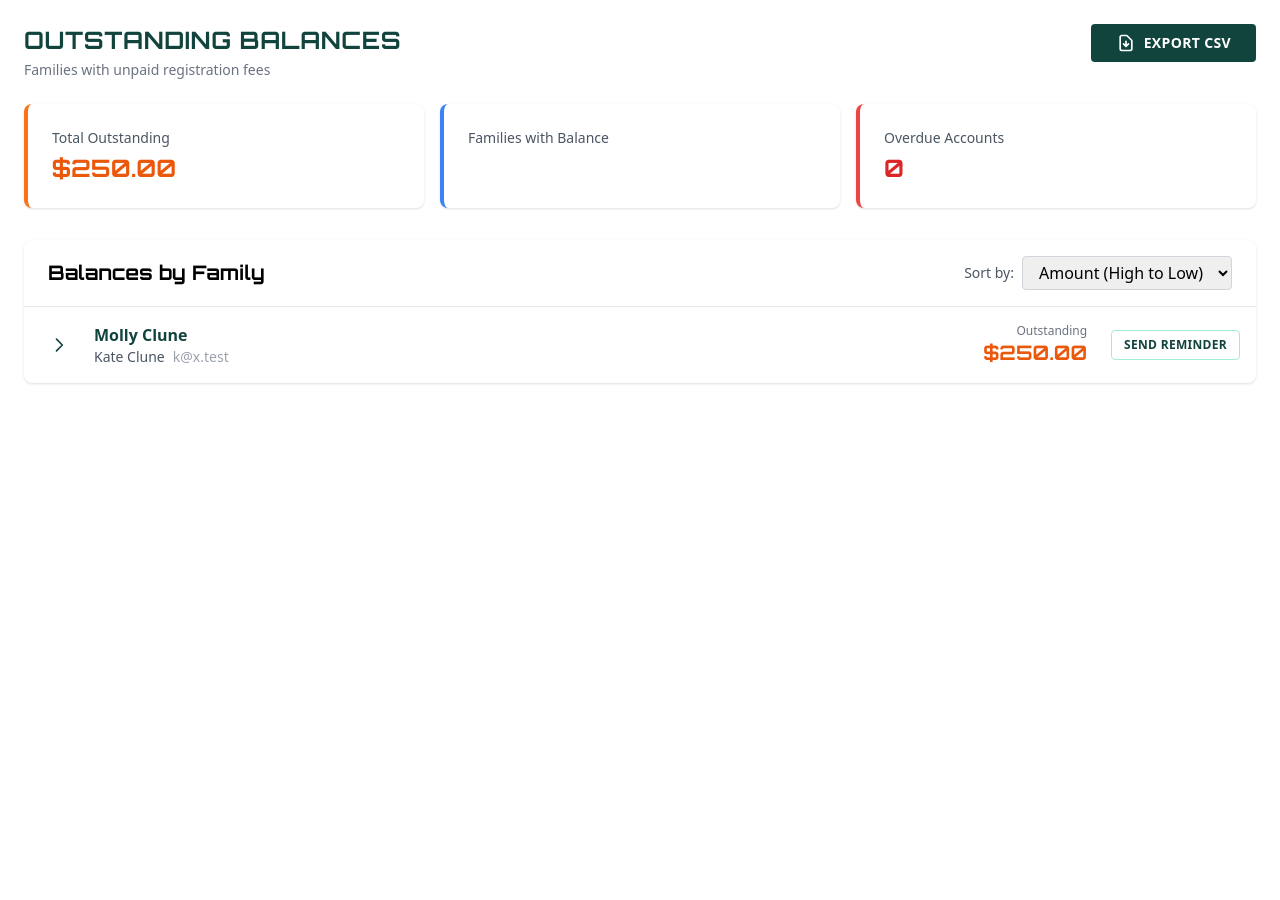
Test: a financial admin sees the chip, an Edit control on the invoiced payment, and No invoice on the other
The image size is (1280, 900).
Expected: the link "Molly Clune" is shown, [94, 323, 188, 347]
Click the button named "Expand". click: [59, 345]
box: [40, 326, 78, 364]
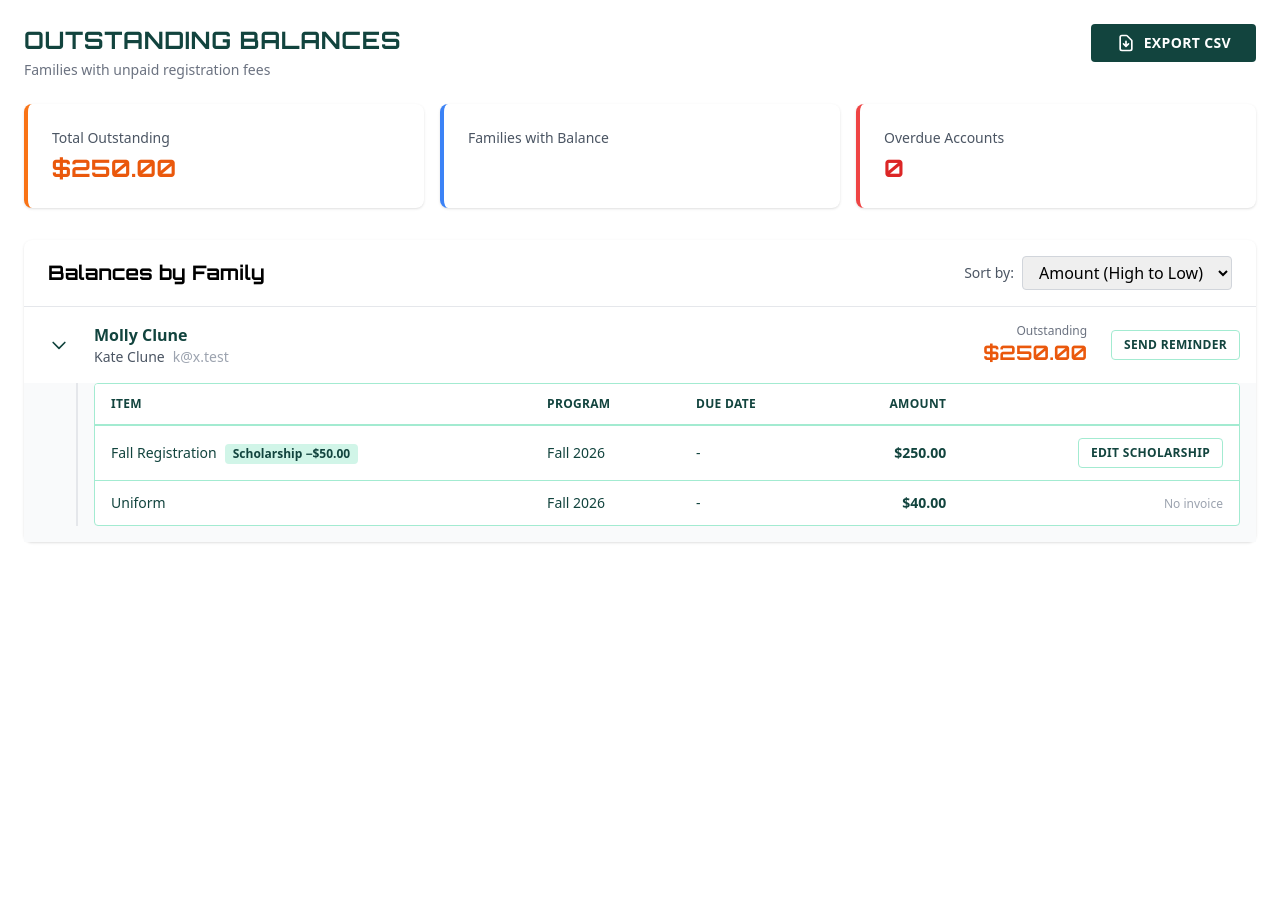
Result: the text with test id "scholarship-chip" reads "Scholarship −$50.00" at [225, 444, 358, 464]
Click the button "Edit scholarship". click: [1150, 453]
box: [1078, 438, 1223, 468]
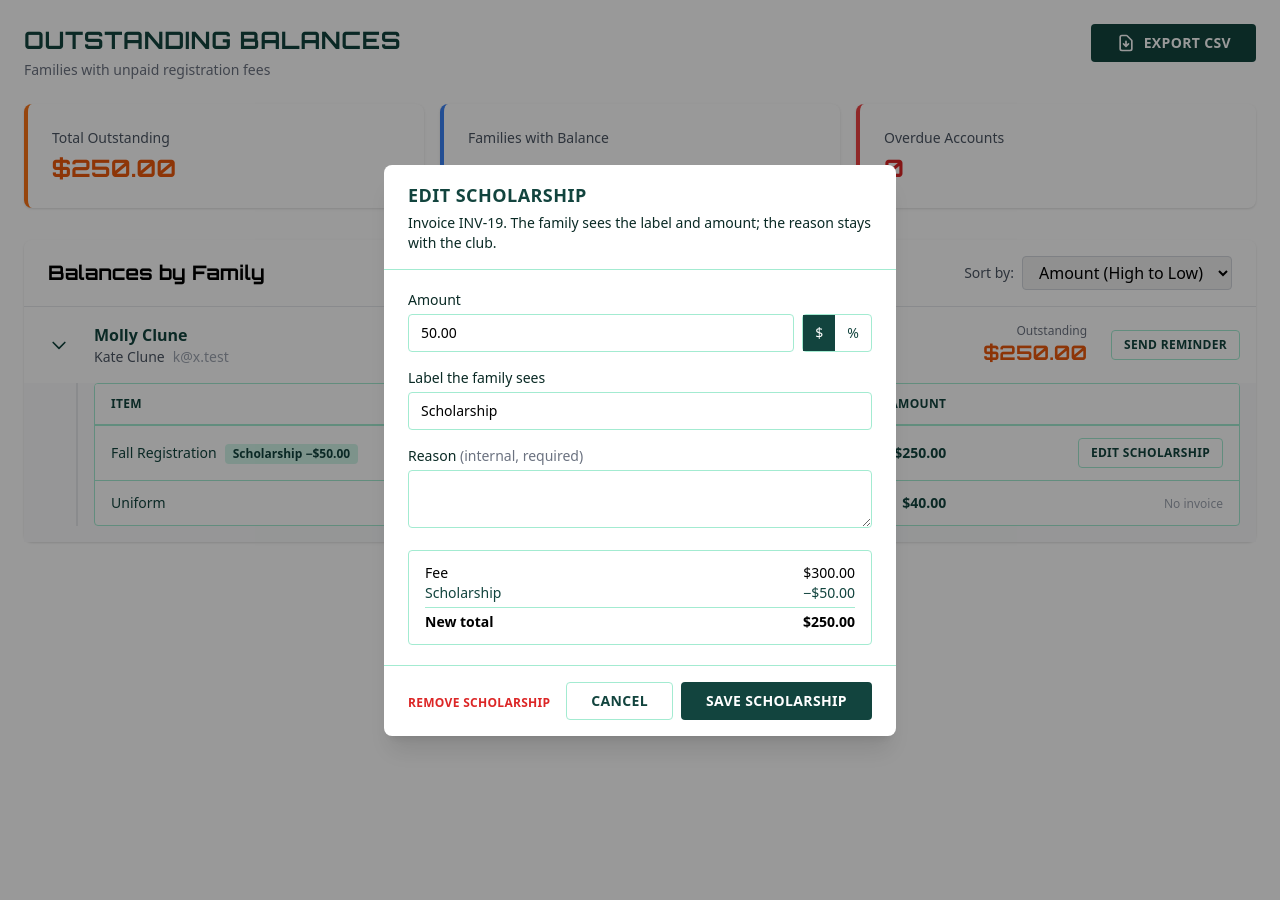
Result: the text "No invoice" is shown at [1164, 495, 1223, 512]
Result: the heading "Edit scholarship" is shown at [408, 182, 587, 206]
